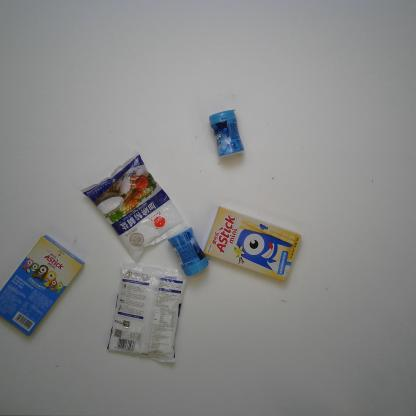Dessert: (0, 233, 86, 338), (201, 205, 303, 285)
Gum: (168, 225, 210, 279), (208, 106, 247, 163)
Seasoner: (78, 149, 190, 268), (103, 263, 189, 367)
